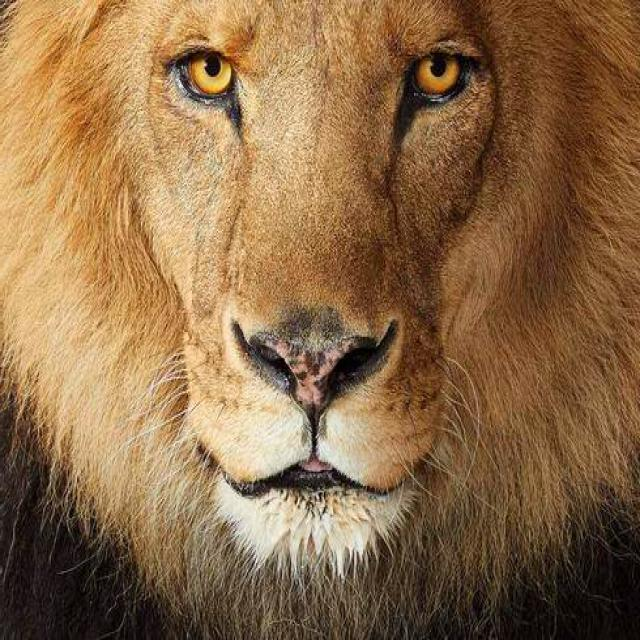lion: (1, 0, 640, 638)
